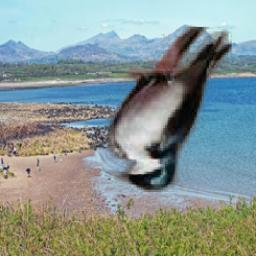Swallow: (107, 28, 233, 193)
